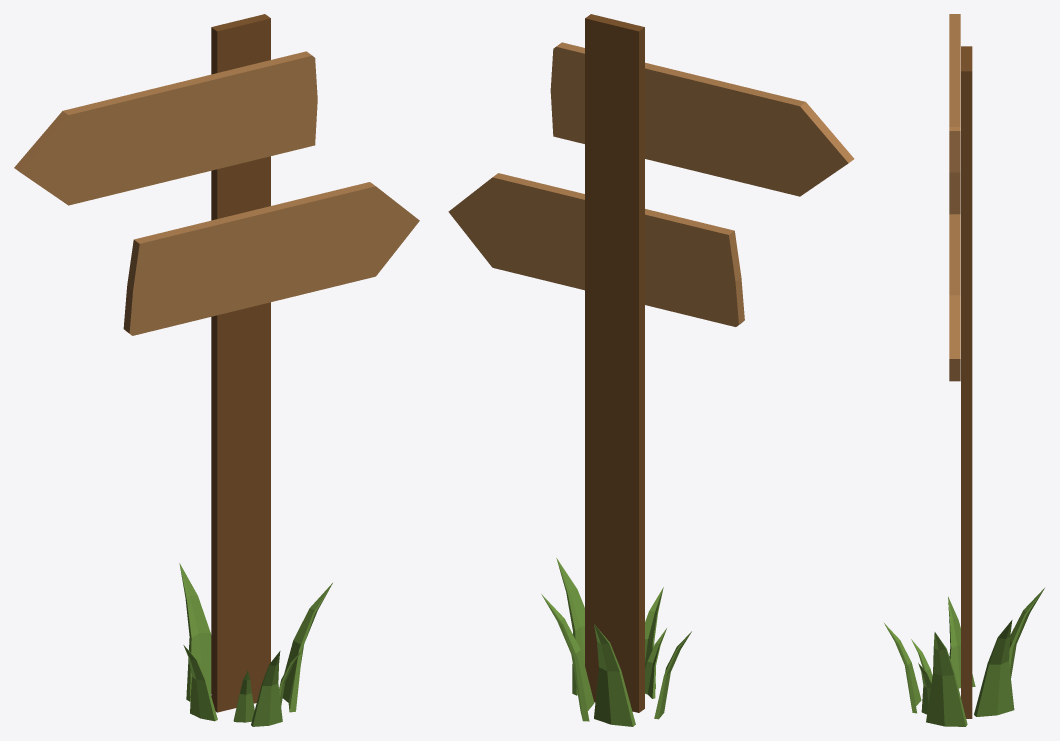
File: Sign6.fbx
The picture shows the model from 3 angles, left to right: view 1: azimuth 30°, elevation 25°; view 2: azimuth 150°, elevation 25°; view 3: azimuth 270°, elevation 25°; orthographic projection. The views are drawn at different scales.
Visible parts, largest first — view 1: Sign6; view 2: Sign6; view 3: Sign6.
Boxes of the visible parts, x1,y1,x2,y2 form: Sign6: [14, 14, 419, 726]; Sign6: [448, 14, 854, 726]; Sign6: [884, 14, 1044, 726].
Size of the model in its own units: 1.18 by 1.93 by 0.4385.
